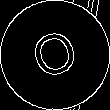O_S: (26, 24, 84, 86)
